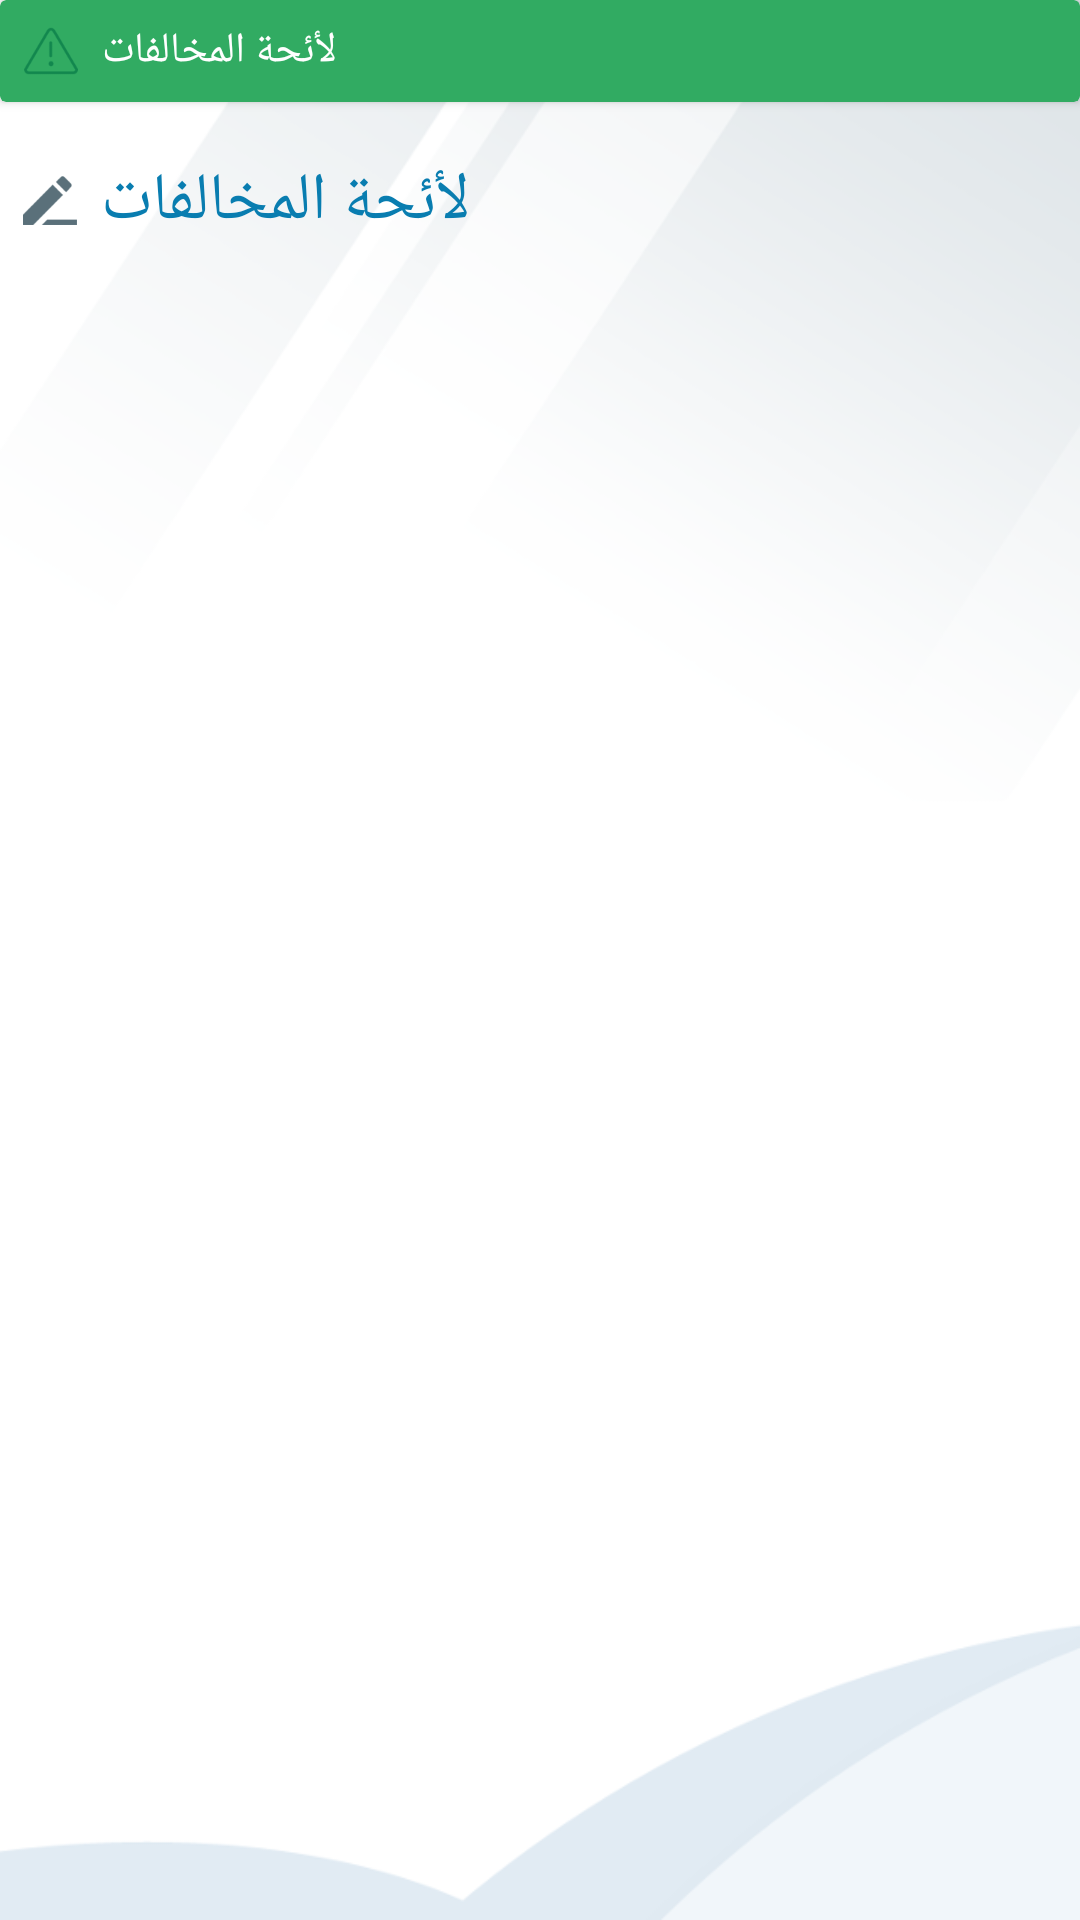

Where to tap for icons on this 1080×1920 app screen, as (x,y):
ab pen: (50,200)
